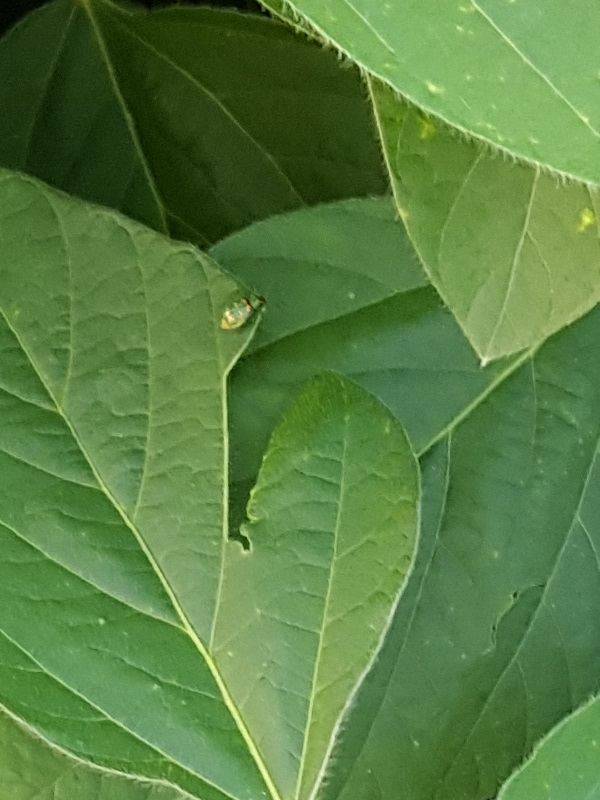Diabrotica_speciosa: (203, 275, 278, 348)
